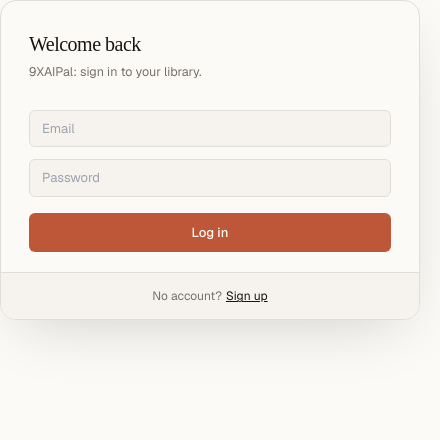
Test: AuthForm › uses short, transform-free reduced-motion transitions for auth changes and errors
Click the button "Sign up": (247, 296) [226, 287, 268, 305]
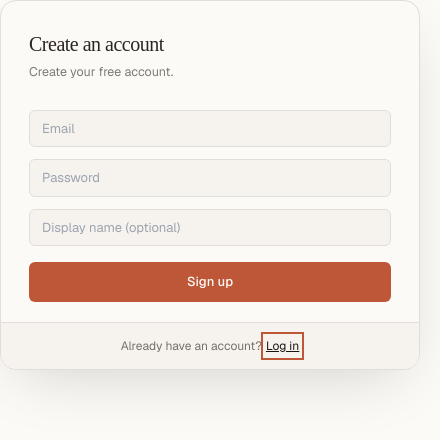
In the field with placeholder "Email": (210, 129) [29, 110, 391, 147], type "a@b.co"
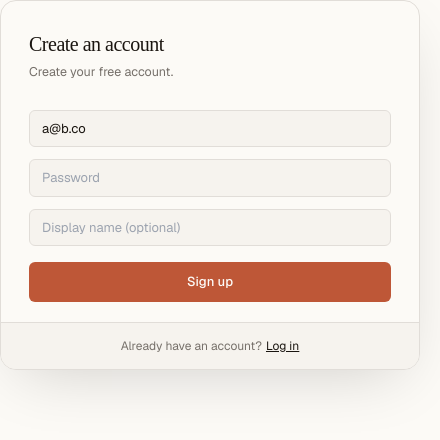
In the password field with placeholder "Password": (210, 178) [29, 159, 391, 197], type "wrongpass"
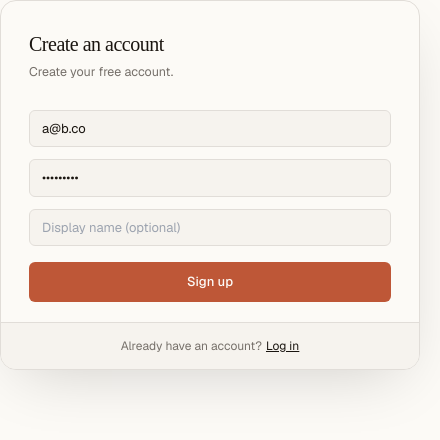
Click the button "Sign up": (210, 282) [29, 262, 391, 302]
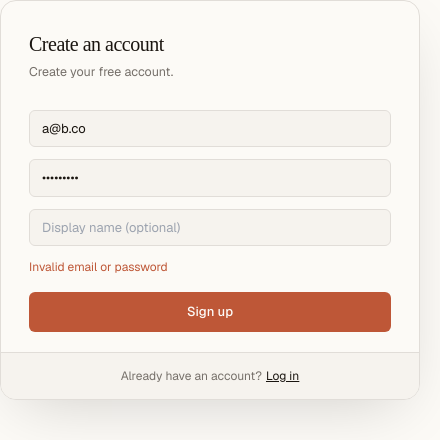
Now the message "Invalid email or password" is shown, box [29, 259, 168, 275]
